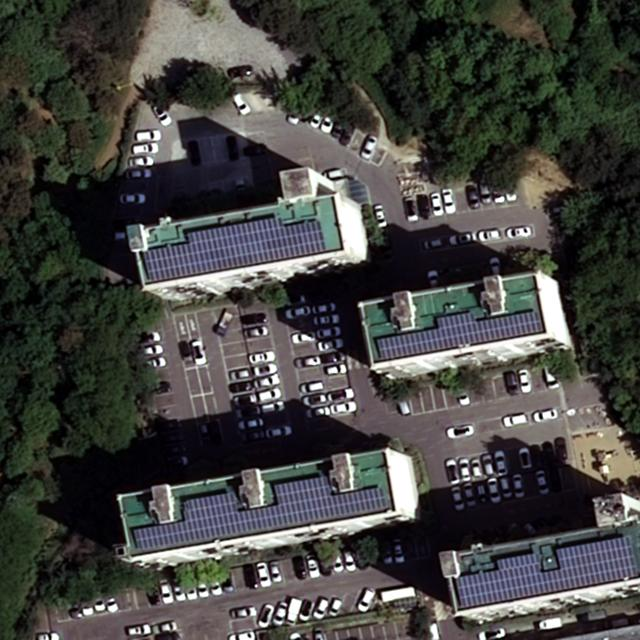panel: (130, 475, 390, 555), (451, 535, 639, 612), (139, 216, 330, 283), (374, 309, 550, 358)
